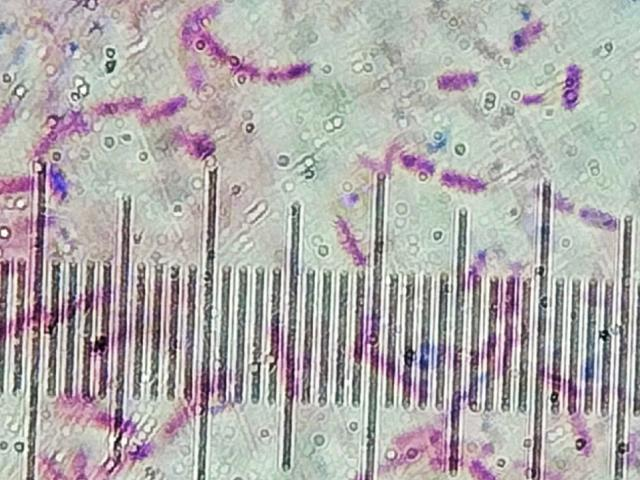E. coli: (208, 33, 262, 75), (333, 215, 366, 264), (179, 36, 206, 91), (436, 167, 485, 195), (435, 66, 479, 95), (581, 209, 626, 237), (562, 63, 588, 110), (568, 393, 588, 454), (41, 113, 79, 144), (276, 60, 318, 86), (143, 92, 191, 114), (511, 22, 546, 51), (101, 97, 142, 121), (168, 127, 212, 149), (179, 0, 209, 31), (122, 439, 152, 470), (70, 444, 95, 480), (461, 456, 498, 480), (398, 146, 429, 174), (96, 410, 134, 432), (401, 425, 441, 445), (46, 450, 73, 477), (0, 170, 31, 193), (165, 405, 191, 432), (396, 445, 424, 458)
